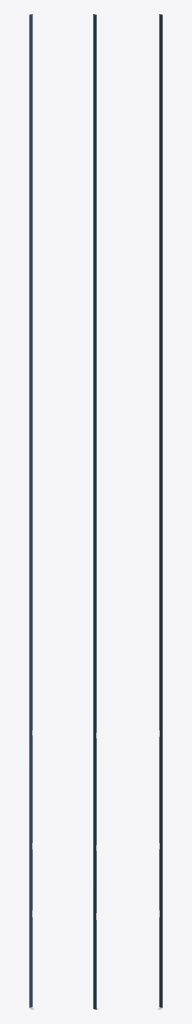
3 views of the same model, side by side, from view 1: azimuth 30°, elevation 25°; view 2: azimuth 150°, elevation 25°; view 3: azimuth 330°, elevation 25° (orthographic).
Parts seen in each view (by area): view 1: 01B6C3864E3FE0452FBB3C9FFAD19C7B; view 2: 01B6C3864E3FE0452FBB3C9FFAD19C7B; view 3: 01B6C3864E3FE0452FBB3C9FFAD19C7B.
Part boxes in pixels (left/top/right/bottom): 01B6C3864E3FE0452FBB3C9FFAD19C7B: left=29, top=14, right=34, bottom=1009; 01B6C3864E3FE0452FBB3C9FFAD19C7B: left=93, top=14, right=98, bottom=1009; 01B6C3864E3FE0452FBB3C9FFAD19C7B: left=157, top=14, right=162, bottom=1009.
Bounding box in the file's own units: 5.07 × 4.2 × 1245.
